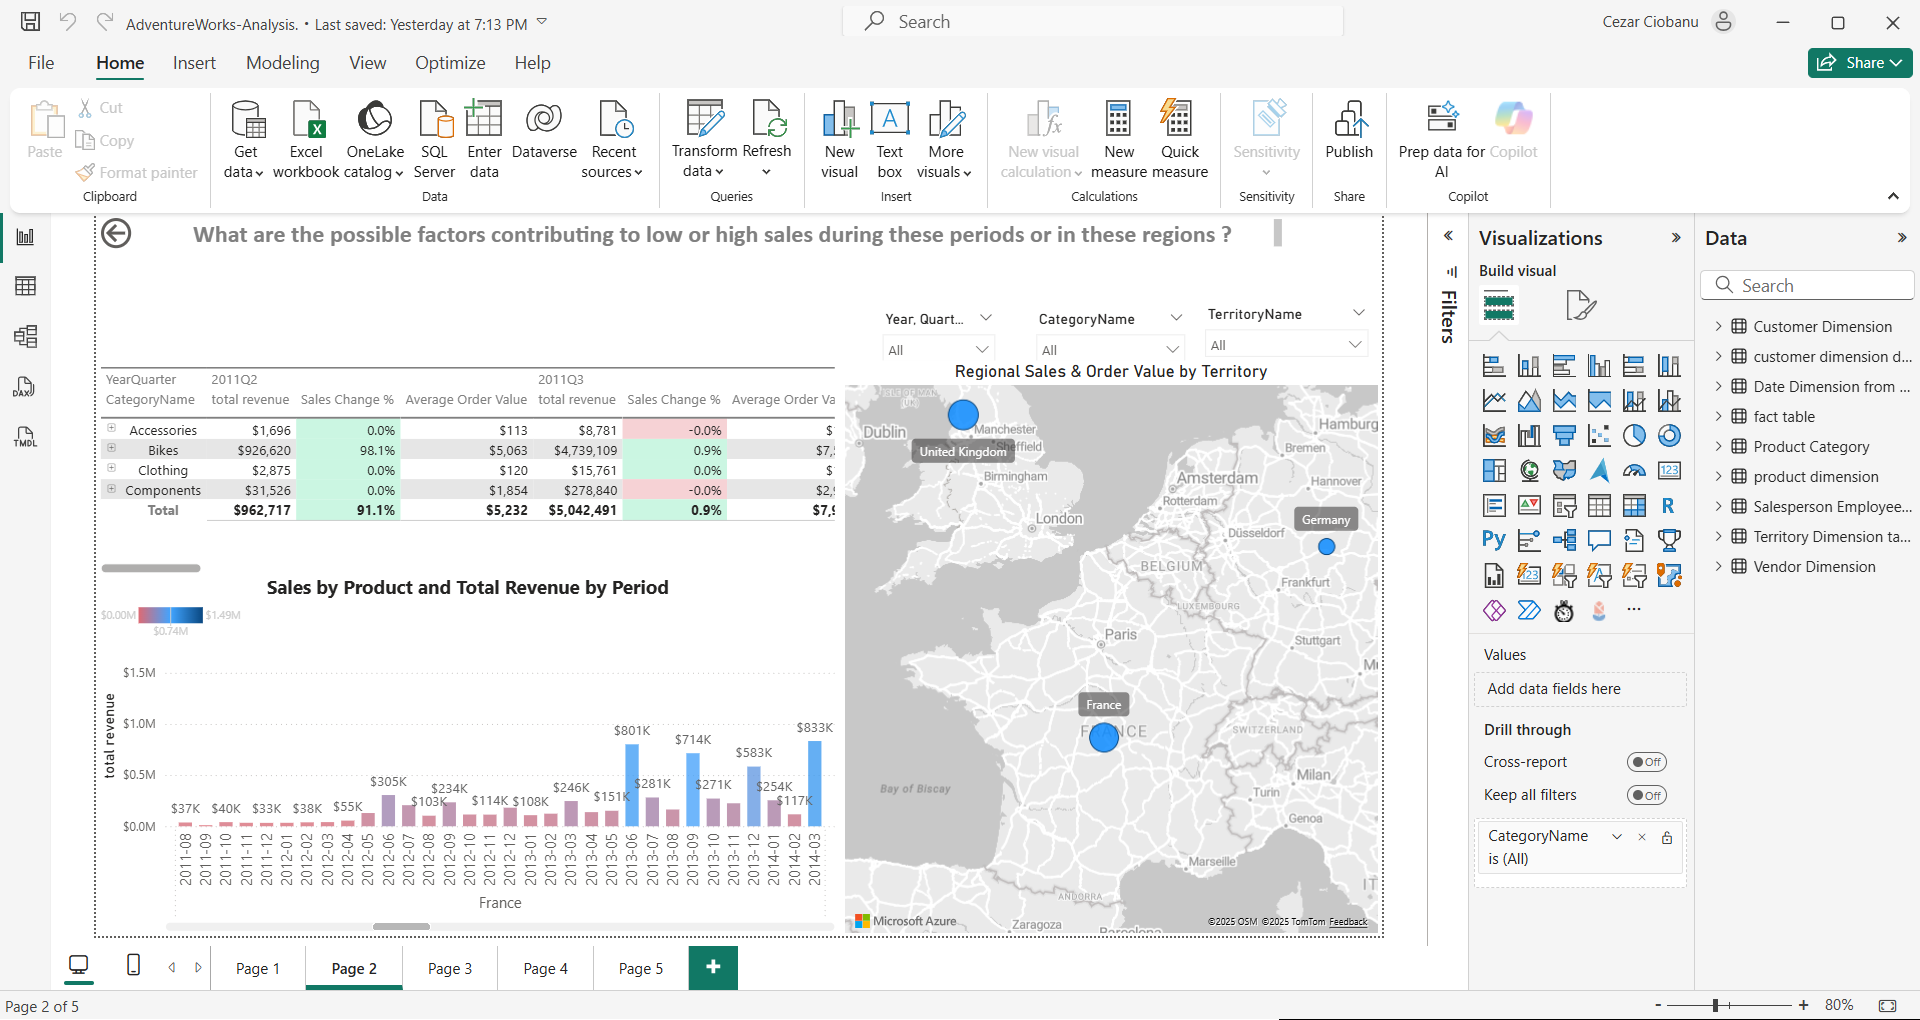

Layout of this report page (visuals, bound fields, positions):
{"tool":"powerbi","page":{"name":"Page 2","canvas":[1280,720],"ordinal":1},"visuals":[{"type":"columnChart","title":"Sales by Product and Total Revenue by Period","fields":{"Category":["Territory Dimension table.TerritoryName","Date Dimension from orders.Period"],"Y":["fact table.total revenue"]},"box":[0,359.5,740.2,360.7],"z":0},{"type":"slicer","title":"Period","fields":{"Values":["Date Dimension from orders.Year","Date Dimension from orders.Quarter"]},"box":[772.2,92.2,132.2,56.7],"z":1000},{"type":"actionButton","box":[0,0,100,40],"z":2000},{"type":"slicer","fields":{"Values":["Product Category.CategoryName"]},"box":[925,92.5,168.8,55],"z":3000},{"type":"slicer","fields":{"Values":["Territory Dimension table.TerritoryName"]},"box":[1093.8,87.5,182.5,60],"z":4000},{"type":"textbox","box":[50,1.7,1135,38.3],"z":5000},{"type":"pivotTable","fields":{"Rows":["Product Category.CategoryName","product dimension.ProductName"],"Columns":["Date Dimension from orders.YearQuarter"],"Values":["fact table.total revenue","fact table.Sales Change %","fact table.Average Order Value"]},"box":[0,147.5,740,215],"z":6000},{"type":"azureMap","title":"Regional Sales & Order Value by Territory ","fields":{"Category":["Territory Dimension table.TerritoryName","Territory Dimension table.TerritoryGroup","Territory Dimension table.CountryRegionCode"],"Size":["fact table.total revenue"]},"box":[740,146.2,540,573.8],"z":7000}]}

Visuals, with their boxes on the page's 1280x720 design canvas (x1, y1, x2, y2). These are canvas units, not pixel positions in the 1920x1020 screenshot, which may show the page scaled, cropped or inside an application window:
"Sales by Product and Total Revenue by Period" columnChart: 0:360:740:720
"Period" slicer: 772:92:904:149
actionButton: 0:0:100:40
slicer - Product Category.CategoryName: 925:92:1094:148
slicer - Territory Dimension table.TerritoryName: 1094:88:1276:148
textbox: 50:2:1185:40
pivotTable - Product Category.CategoryName x product dimension.ProductName: 0:148:740:362
"Regional Sales & Order Value by Territory " azureMap: 740:146:1280:720
